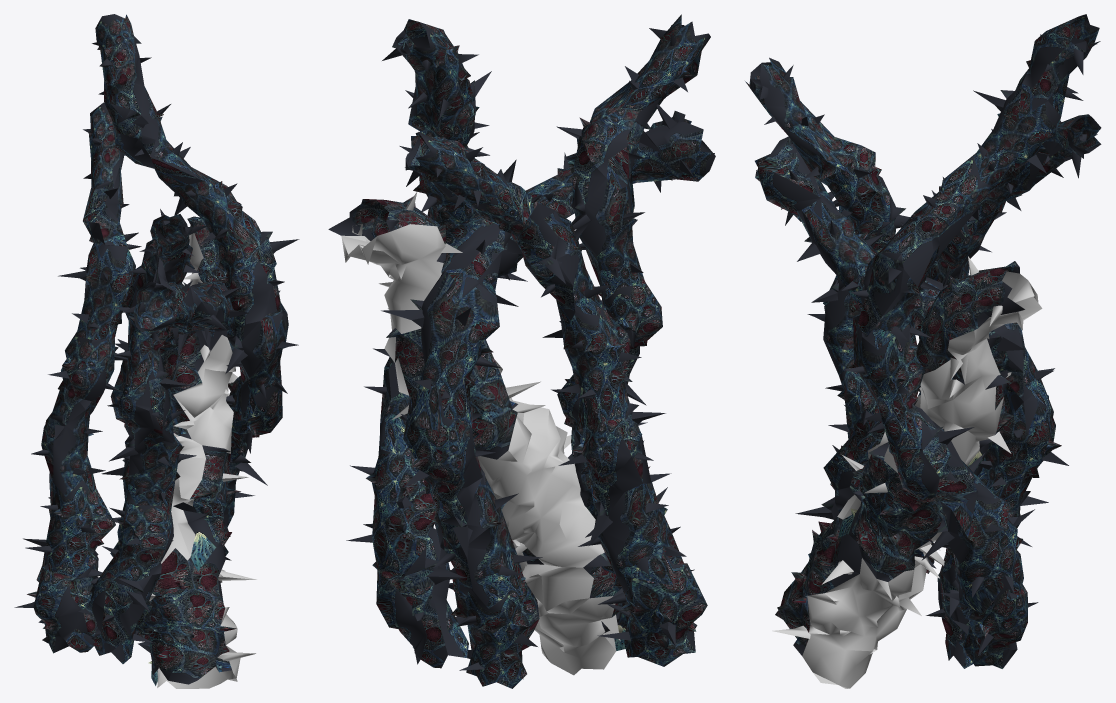
Rendered from 02_05_Makaizyu_03.fbx.
The picture shows the model from 3 angles, left to right: view 1: azimuth 30°, elevation 25°; view 2: azimuth 150°, elevation 25°; view 3: azimuth 270°, elevation 25°; orthographic projection. The views are drawn at different scales.
Visible parts, largest first — view 1: LODGroup_3_MainMesh_1_SubMesh_3, LODGroup_3_MainMesh_1_SubMesh_2, LODGroup_3_MainMesh_1_SubMesh_1; view 2: LODGroup_3_MainMesh_1_SubMesh_3, LODGroup_3_MainMesh_1_SubMesh_1, LODGroup_3_MainMesh_1_SubMesh_2; view 3: LODGroup_3_MainMesh_1_SubMesh_3, LODGroup_3_MainMesh_1_SubMesh_1, LODGroup_3_MainMesh_1_SubMesh_2.
Part boxes in pixels (<box>): LODGroup_3_MainMesh_1_SubMesh_3: <box>14,14,299,663</box>; LODGroup_3_MainMesh_1_SubMesh_2: <box>136,216,240,685</box>; LODGroup_3_MainMesh_1_SubMesh_1: <box>149,225,256,688</box>; LODGroup_3_MainMesh_1_SubMesh_3: <box>346,14,715,688</box>; LODGroup_3_MainMesh_1_SubMesh_1: <box>341,192,620,675</box>; LODGroup_3_MainMesh_1_SubMesh_2: <box>328,196,625,650</box>; LODGroup_3_MainMesh_1_SubMesh_3: <box>745,14,1101,668</box>; LODGroup_3_MainMesh_1_SubMesh_1: <box>772,256,1042,688</box>; LODGroup_3_MainMesh_1_SubMesh_2: <box>775,261,1024,655</box>.
Bounding box in the file's own units: 854 × 1877 × 898.
